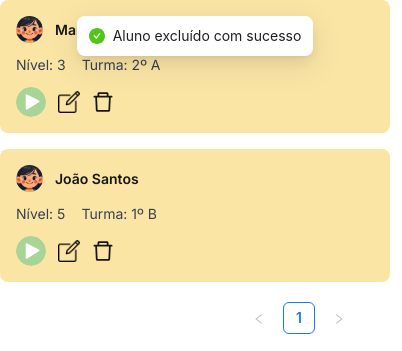
CustomTable › shows error message when deletion fails
Click the picture named "delete" below "Maria Silva" at (103, 102), box [92,91,114,113]
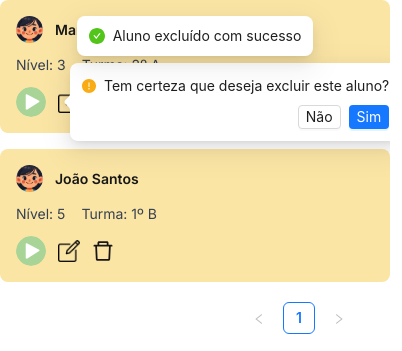
Click the button "Sim" at (369, 117), box [349,105,389,129]
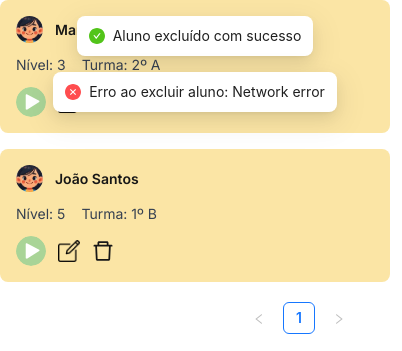
expect the text "Erro ao excluir aluno: Network error" is shown: met, box [89,81,325,103]
